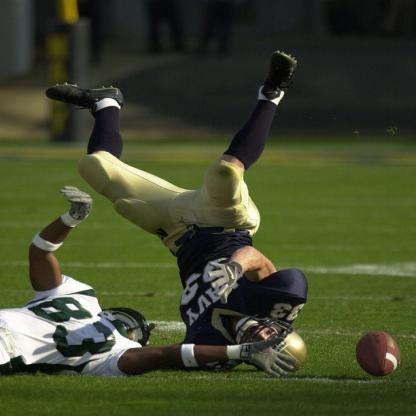Fall_Down: (43, 52, 307, 377)
